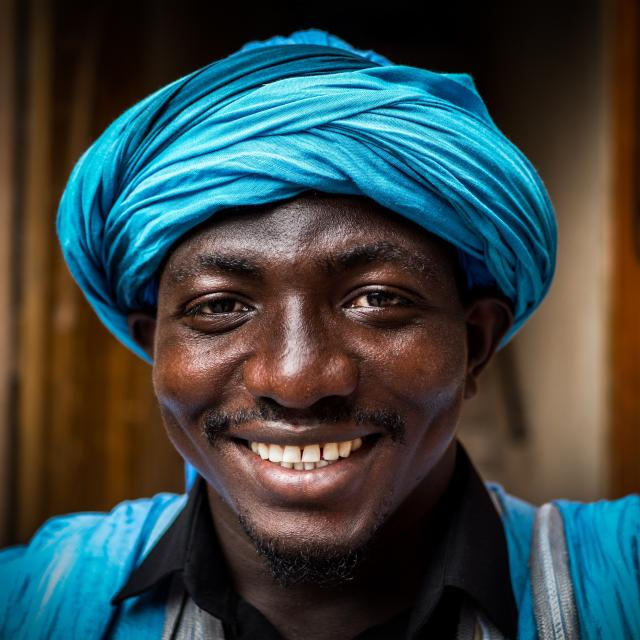sem_oculos: (130, 264, 522, 343)
